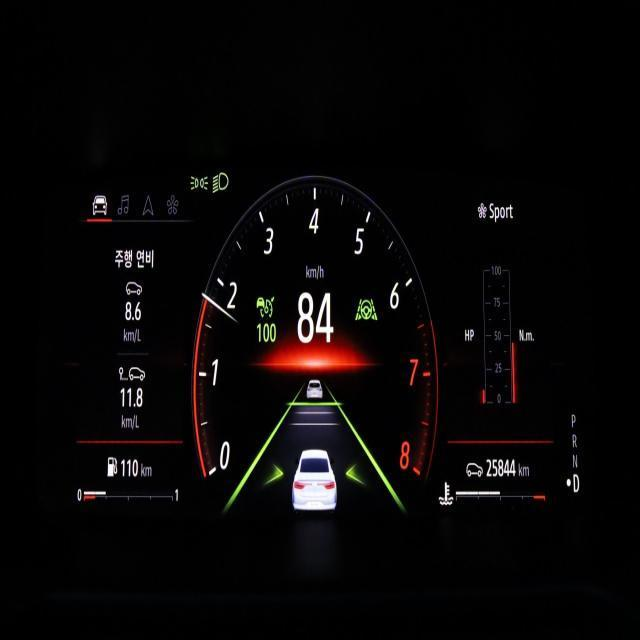LaneCenteringOff: (355, 297, 377, 322)
Low beam: (212, 172, 228, 194)
SideLamp: (190, 173, 208, 191)
